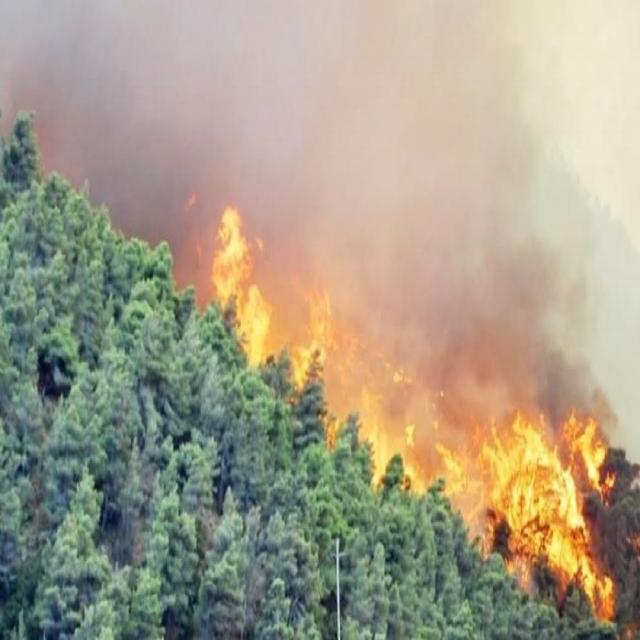Fire: (506, 412, 620, 622), (212, 208, 288, 371), (357, 409, 422, 493), (445, 458, 465, 494)
